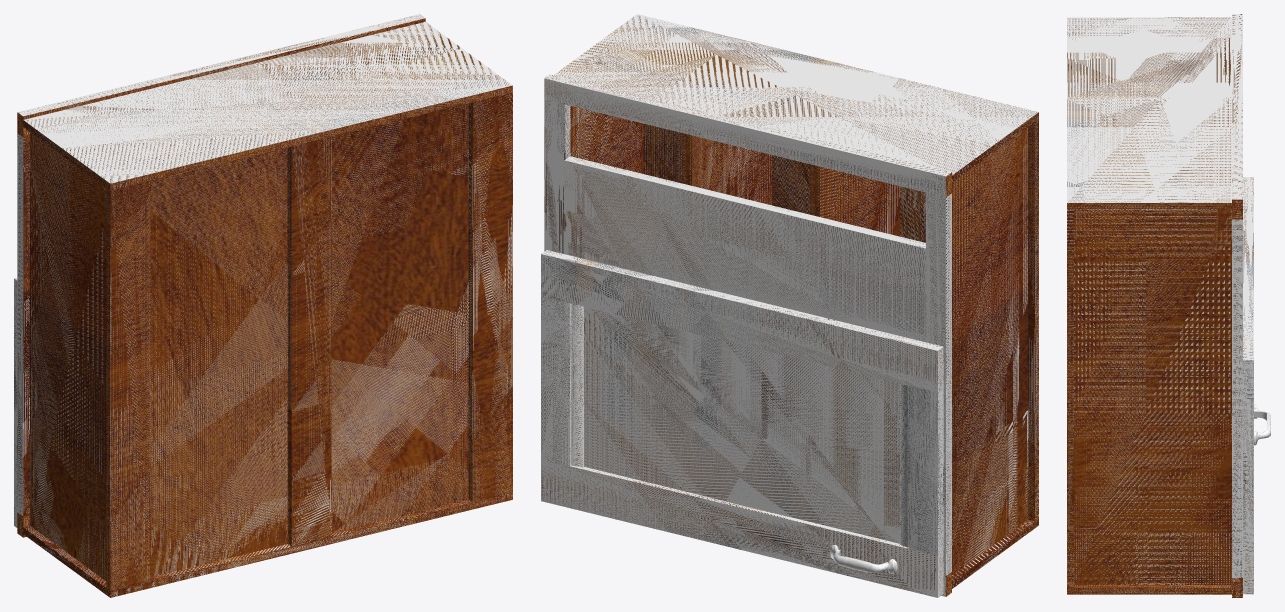
The picture shows the model from 3 angles, left to right: view 1: azimuth 30°, elevation 25°; view 2: azimuth 150°, elevation 25°; view 3: azimuth 270°, elevation 25°; orthographic projection. The views are drawn at different scales.
Visible parts, largest first — view 1: mesh6_mesh6-geometry, mesh3_mesh3-geometry, mesh8_mesh8-geometry, mesh1_mesh1-geometry, mesh7_mesh7-geometry, mesh4_mesh4-geometry, mesh9_mesh9-geometry, mesh16_mesh16-geometry; view 2: mesh17_mesh17-geometry, mesh11_mesh11-geometry, mesh1_mesh1-geometry, mesh8_mesh8-geometry, mesh14_mesh14-geometry, mesh13_mesh13-geometry, mesh9_mesh9-geometry, mesh4_mesh4-geometry, mesh12_mesh12-geometry, mesh16_mesh16-geometry, mesh15_mesh15-geometry, mesh5_mesh5-geometry (+3 smaller); view 3: mesh2_mesh2-geometry, mesh8_mesh8-geometry, mesh4_mesh4-geometry, mesh3_mesh3-geometry, mesh14_mesh14-geometry, mesh9_mesh9-geometry, mesh15_mesh15-geometry, mesh7_mesh7-geometry, mesh13_mesh13-geometry, mesh19_mesh19-geometry.
Part boxes in pixels (left/top/right/bottom): mesh6_mesh6-geometry: left=150, top=103, right=468, bottom=576; mesh3_mesh3-geometry: left=106, top=92, right=512, bottom=590; mesh8_mesh8-geometry: left=23, top=21, right=512, bottom=190; mesh1_mesh1-geometry: left=30, top=132, right=106, bottom=580; mesh7_mesh7-geometry: left=23, top=493, right=512, bottom=597; mesh4_mesh4-geometry: left=17, top=133, right=29, bottom=516; mesh9_mesh9-geometry: left=17, top=14, right=425, bottom=137; mesh16_mesh16-geometry: left=14, top=321, right=17, bottom=485; mesh17_mesh17-geometry: left=584, top=306, right=899, bottom=543; mesh11_mesh11-geometry: left=564, top=156, right=925, bottom=342; mesh1_mesh1-geometry: left=570, top=106, right=1028, bottom=575; mesh8_mesh8-geometry: left=554, top=14, right=1038, bottom=182; mesh14_mesh14-geometry: left=541, top=250, right=943, bottom=392; mesh13_mesh13-geometry: left=541, top=459, right=943, bottom=597; mesh9_mesh9-geometry: left=544, top=74, right=951, bottom=197; mesh4_mesh4-geometry: left=544, top=99, right=951, bottom=575; mesh12_mesh12-geometry: left=682, top=133, right=900, bottom=236; mesh16_mesh16-geometry: left=899, top=384, right=943, bottom=555; mesh15_mesh15-geometry: left=541, top=296, right=583, bottom=467; mesh5_mesh5-geometry: left=643, top=124, right=925, bottom=242; mesh2_mesh2-geometry: left=1074, top=209, right=1231, bottom=584; mesh8_mesh8-geometry: left=1067, top=17, right=1231, bottom=209; mesh4_mesh4-geometry: left=1232, top=219, right=1242, bottom=577; mesh3_mesh3-geometry: left=1067, top=209, right=1074, bottom=587; mesh14_mesh14-geometry: left=1243, top=177, right=1253, bottom=400; mesh9_mesh9-geometry: left=1232, top=14, right=1242, bottom=219; mesh15_mesh15-geometry: left=1243, top=400, right=1253, bottom=554; mesh7_mesh7-geometry: left=1067, top=585, right=1231, bottom=594; mesh13_mesh13-geometry: left=1243, top=554, right=1253, bottom=594; mesh19_mesh19-geometry: left=1254, top=404, right=1270, bottom=445.
Size of the model in its own units: 0.6719 by 0.6719 by 0.3115.
